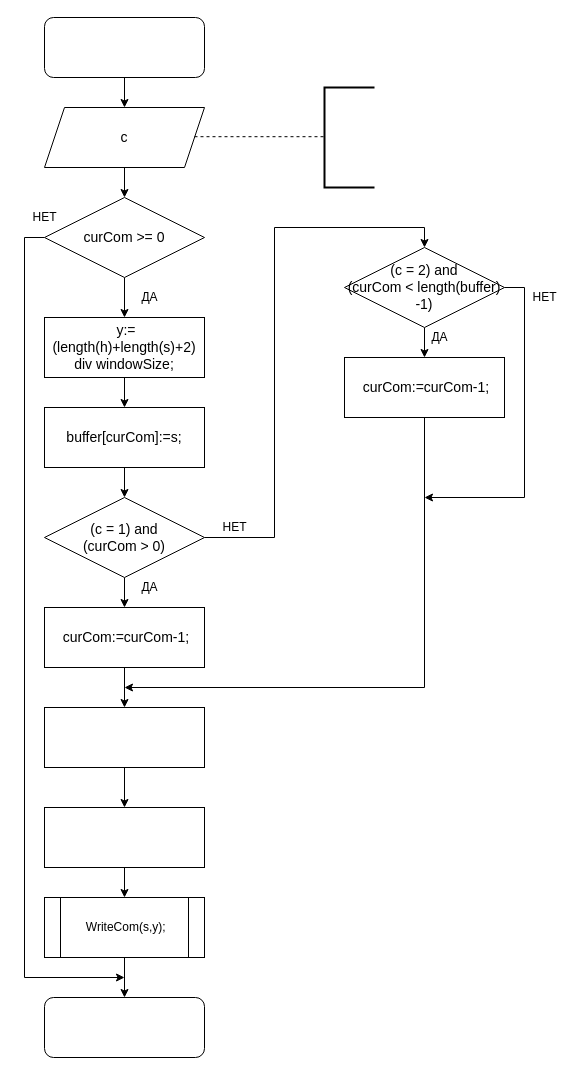
This 582x1075 diagram has some shape labels left out. Each missing label, with the centre of its shape:
c - число по значению: point 349,137
ChangeCommand НАЧАЛО: point 124,47
s:=buffer[curCom];: point 124,737
x:=length(s);: point 124,837
КОНЕЦ ChangeCommand: point 124,1027
